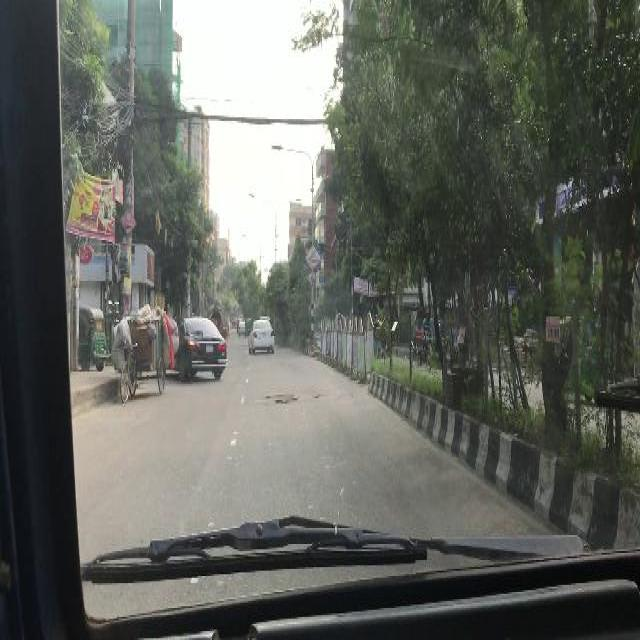car: (175, 316, 227, 382), (248, 319, 274, 353)
rickshaw: (412, 301, 432, 367), (209, 306, 223, 327)
three wheelers -CNG-: (76, 301, 110, 367)
